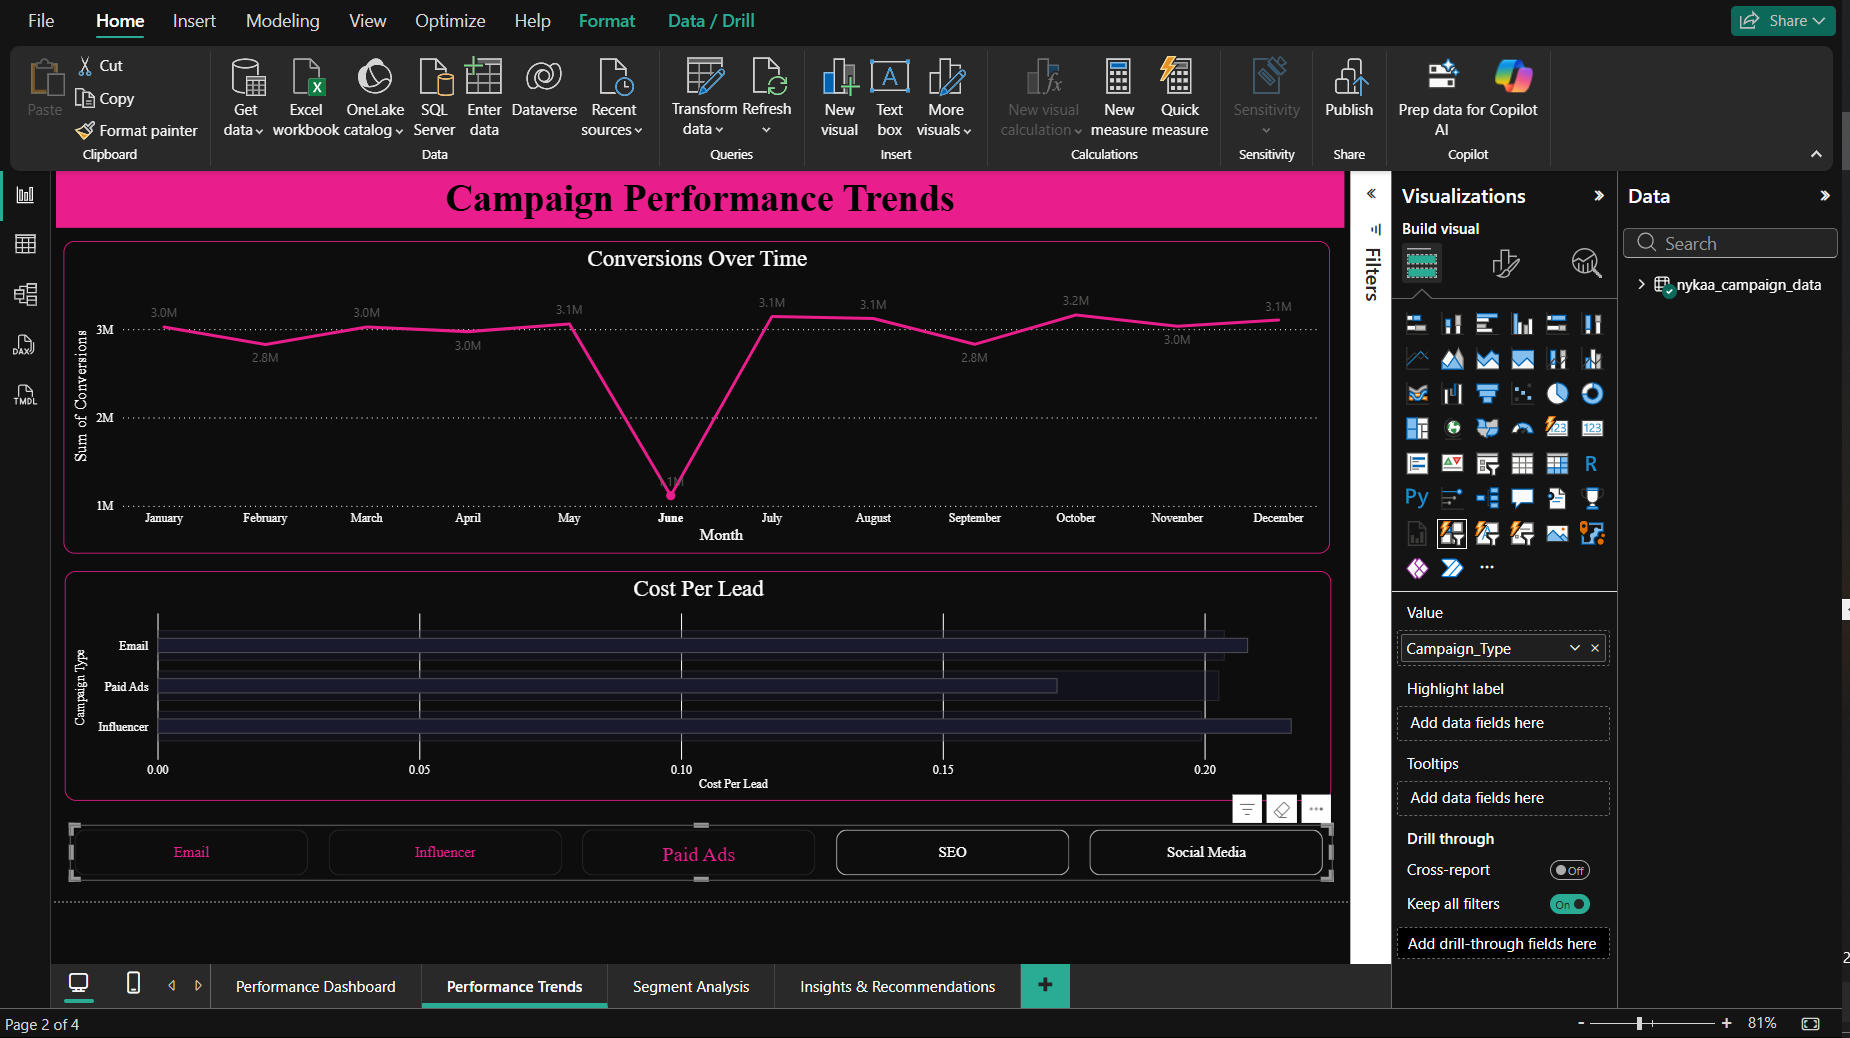

The page's visual inventory and layout, read from the dashboard file:
{"tool":"powerbi","page":{"name":"Performance Trends","canvas":[1280,720],"ordinal":1},"visuals":[{"type":"lineChart","title":"Conversions Over Time","fields":{"Y":["Sum(nykaa_campaign_data.Conversions)"],"Category":["nykaa_campaign_data.Date.Variation.Date Hierarchy.Month"]},"box":[12.3,69,1247.7,307.9],"z":0},{"type":"textbox","box":[5.3,0,1269.4,55.8],"z":1000},{"type":"clusteredBarChart","title":"Cost Per Lead","fields":{"Category":["nykaa_campaign_data.Campaign_Type"],"Y":["nykaa_campaign_data.Cost Per Lead"]},"box":[13.5,394.2,1247.7,226.6],"z":2000},{"type":"advancedSlicerVisual","title":"Campaign Type","fields":{"Values":["nykaa_campaign_data.Campaign_Type"]},"box":[18.5,644.2,1244,55.4],"z":3000}]}

Visuals, with their boxes on the page's 1280x720 design canvas (x1, y1, x2, y2). These are canvas units, not pixel positions in the 1850x1038 screenshot, which may show the page scaled, cropped or inside an application window:
"Conversions Over Time" lineChart: rect(12, 69, 1260, 377)
textbox: rect(5, 0, 1275, 56)
"Cost Per Lead" clusteredBarChart: rect(14, 394, 1261, 621)
"Campaign Type" advancedSlicerVisual: rect(18, 644, 1262, 700)
